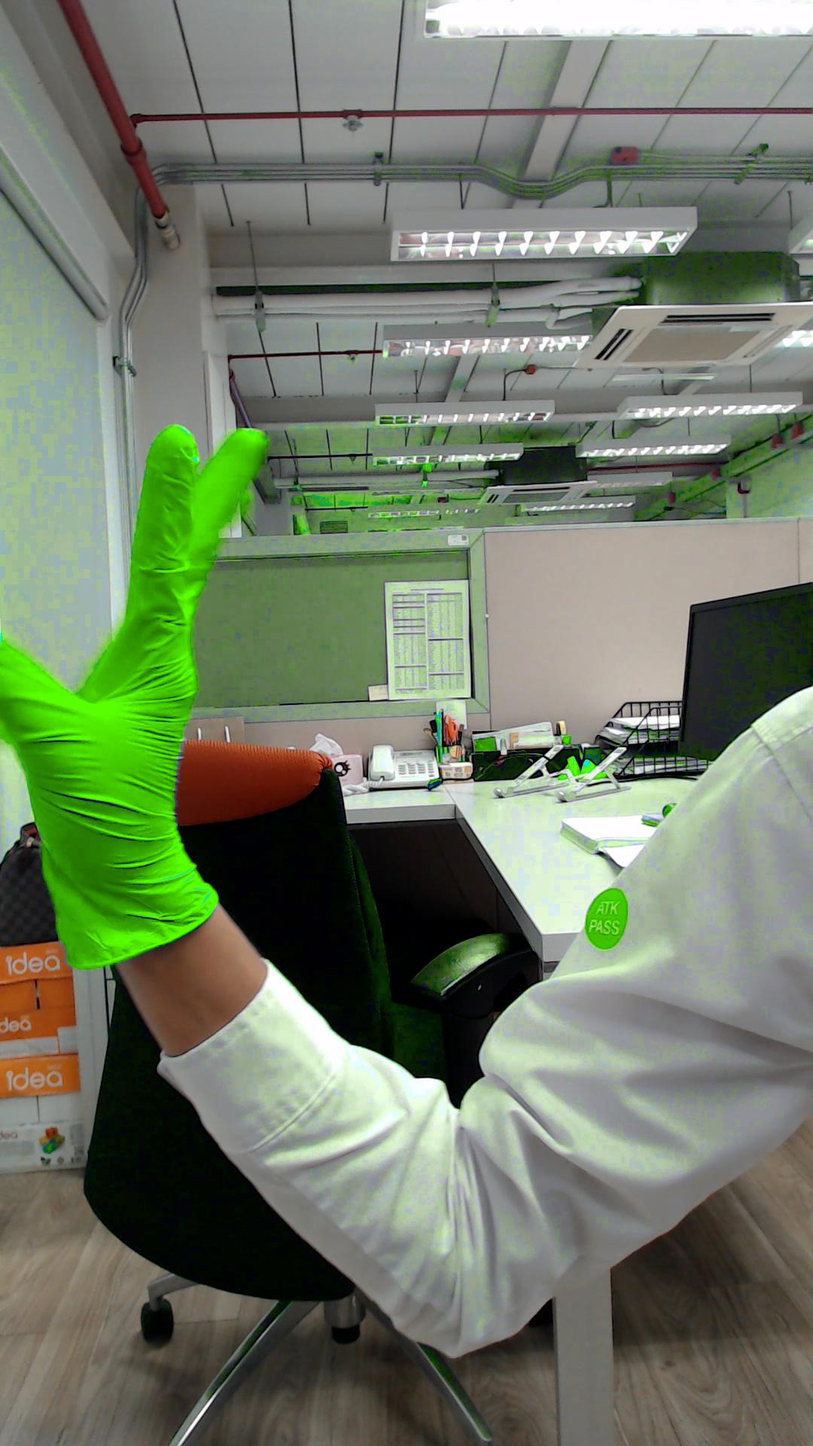gloves: (1, 403, 275, 832)
